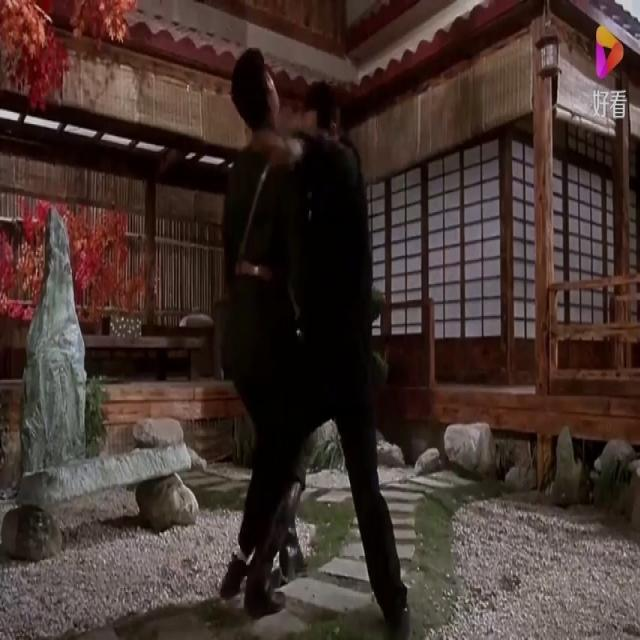fight: (209, 36, 410, 636)
